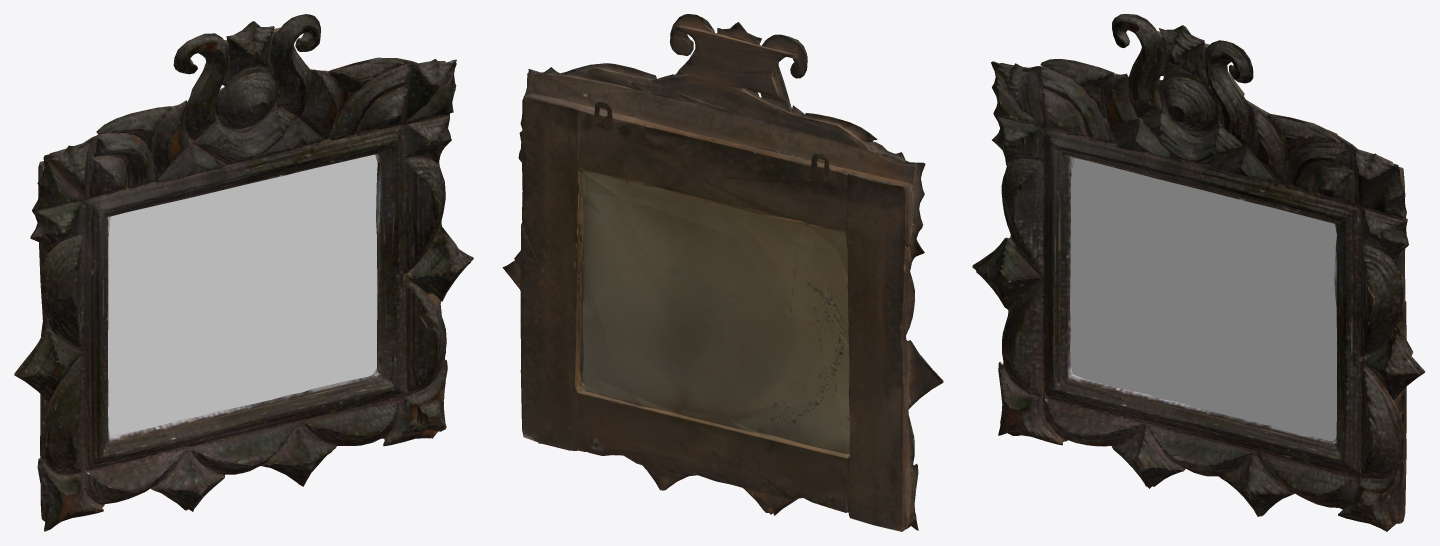
3 renders of one model, left to right at view 1: azimuth 30°, elevation 25°; view 2: azimuth 150°, elevation 25°; view 3: azimuth 330°, elevation 25°, orthographic. The views are drawn at different scales.
Parts seen in each view (by area): view 1: Spiegel_22k_0.5k; view 2: Spiegel_22k_0.5k; view 3: Spiegel_22k_0.5k.
Boxes of the visible parts, bbox=[...] form: Spiegel_22k_0.5k: bbox=[14, 14, 473, 531]; Spiegel_22k_0.5k: bbox=[502, 14, 943, 531]; Spiegel_22k_0.5k: bbox=[972, 14, 1425, 531].
Size of the model in its own units: 0.7293 by 0.7467 by 0.0824.
Materials: 1 (1 with a texture image).
